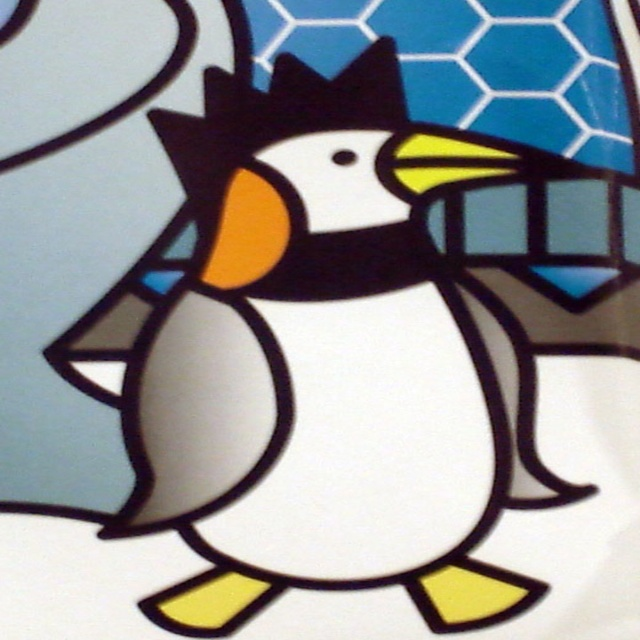Penguin: (97, 30, 613, 639)
